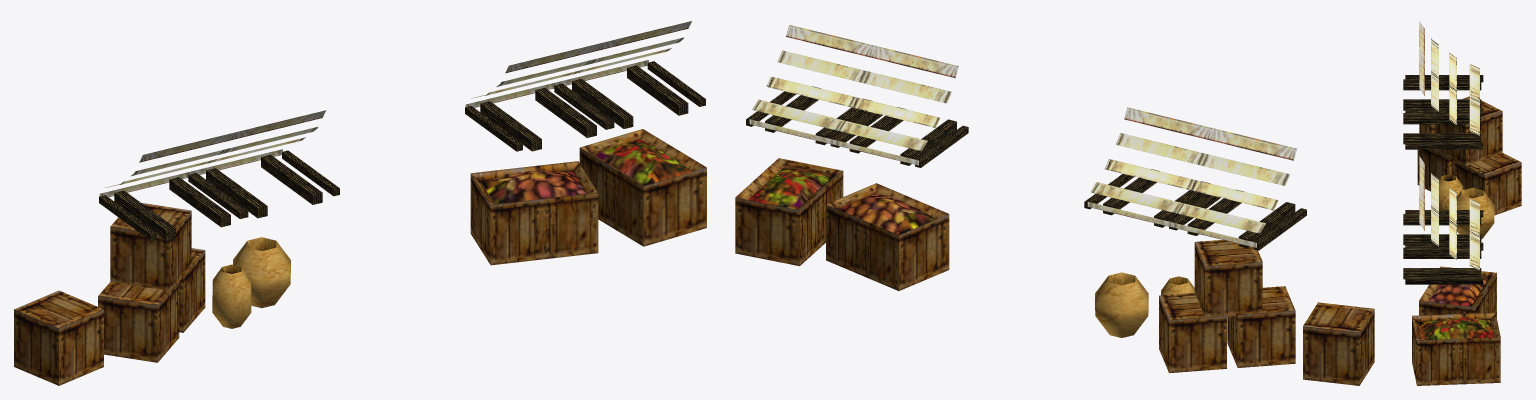
The model's file is pers_alt_build_01_prop.dae.
The picture shows the model from 3 angles, left to right: view 1: azimuth 30°, elevation 25°; view 2: azimuth 150°, elevation 25°; view 3: azimuth 270°, elevation 25°; orthographic projection. The views are drawn at different scales.
Parts seen in each view (by area): view 1: Object09; view 2: Object09; view 3: Object09.
Boxes of the visible parts, x1=… form: Object09: x1=14, y1=21, x2=706, y2=385; Object09: x1=735, y1=25, x2=1374, y2=385; Object09: x1=1403, y1=21, x2=1521, y2=385.
Bounding box in the file's own units: 18.01 × 3.71 × 5.73.
